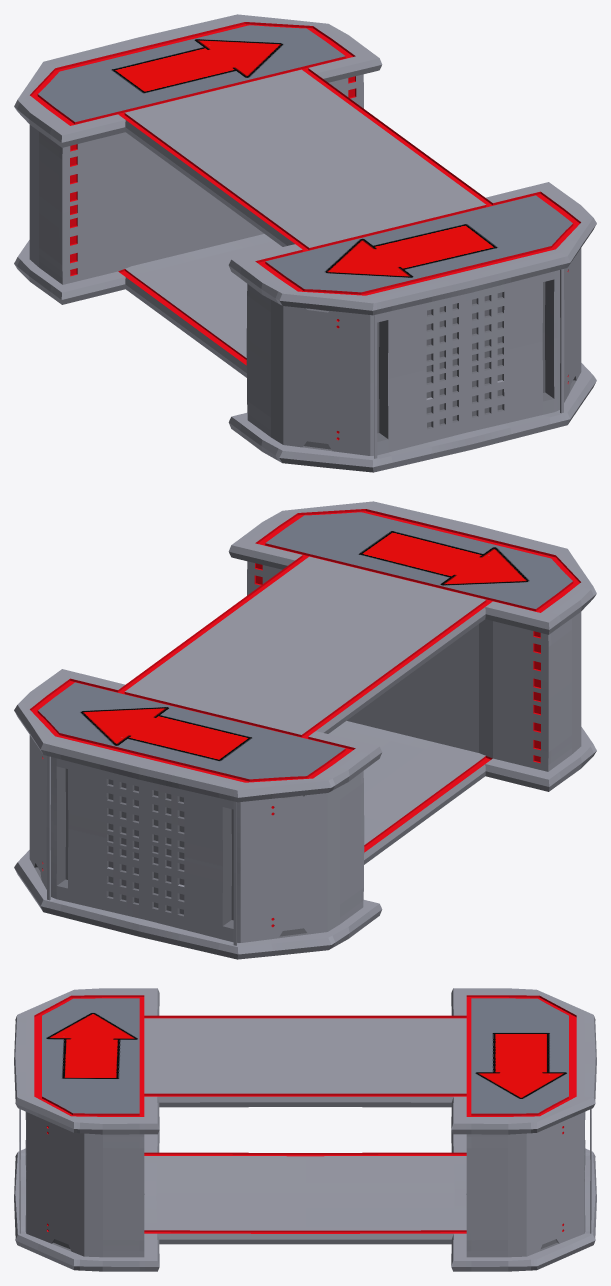
The model's file is TablePassCounter.fbx.
The picture shows the model from 3 angles, top to bottom: view 1: azimuth 30°, elevation 25°; view 2: azimuth 150°, elevation 25°; view 3: azimuth 270°, elevation 25°; orthographic projection. The views are drawn at different scales.
Parts seen in each view (by area): view 1: BancadaDelivery; view 2: BancadaDelivery; view 3: BancadaDelivery.
Part boxes in pixels (x1,y1,x2,y2): BancadaDelivery: (14,14,596,472); BancadaDelivery: (14,501,596,959); BancadaDelivery: (14,988,596,1271).
Size of the model in its own units: 149 by 268 by 75.26.
Materials: 4 (1 with a texture image).
